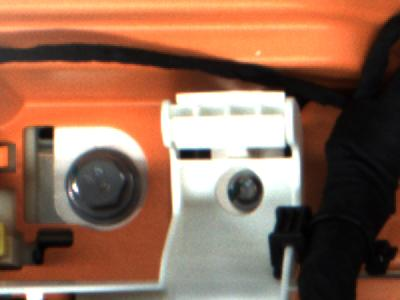nut_b: (60, 150, 136, 223)
